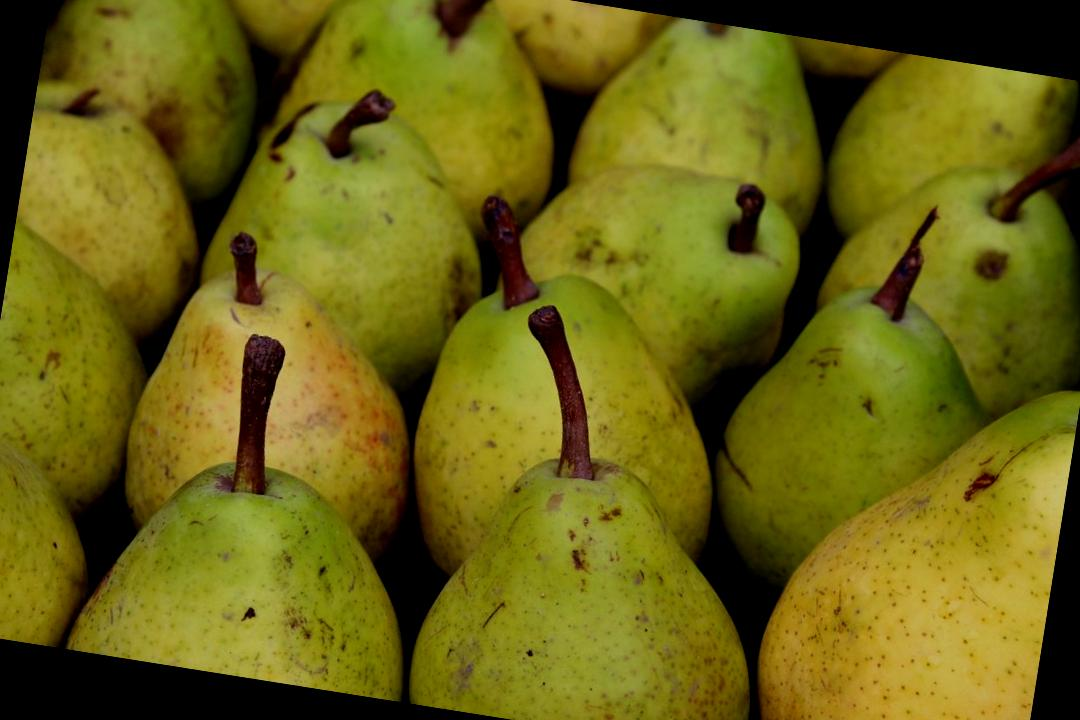Pear Unripe: (378, 444, 798, 720)
